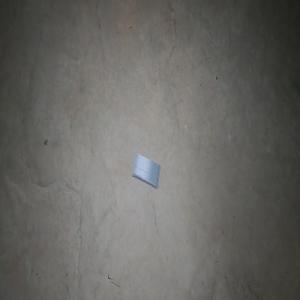PlasticPart: (131, 152, 160, 189)
